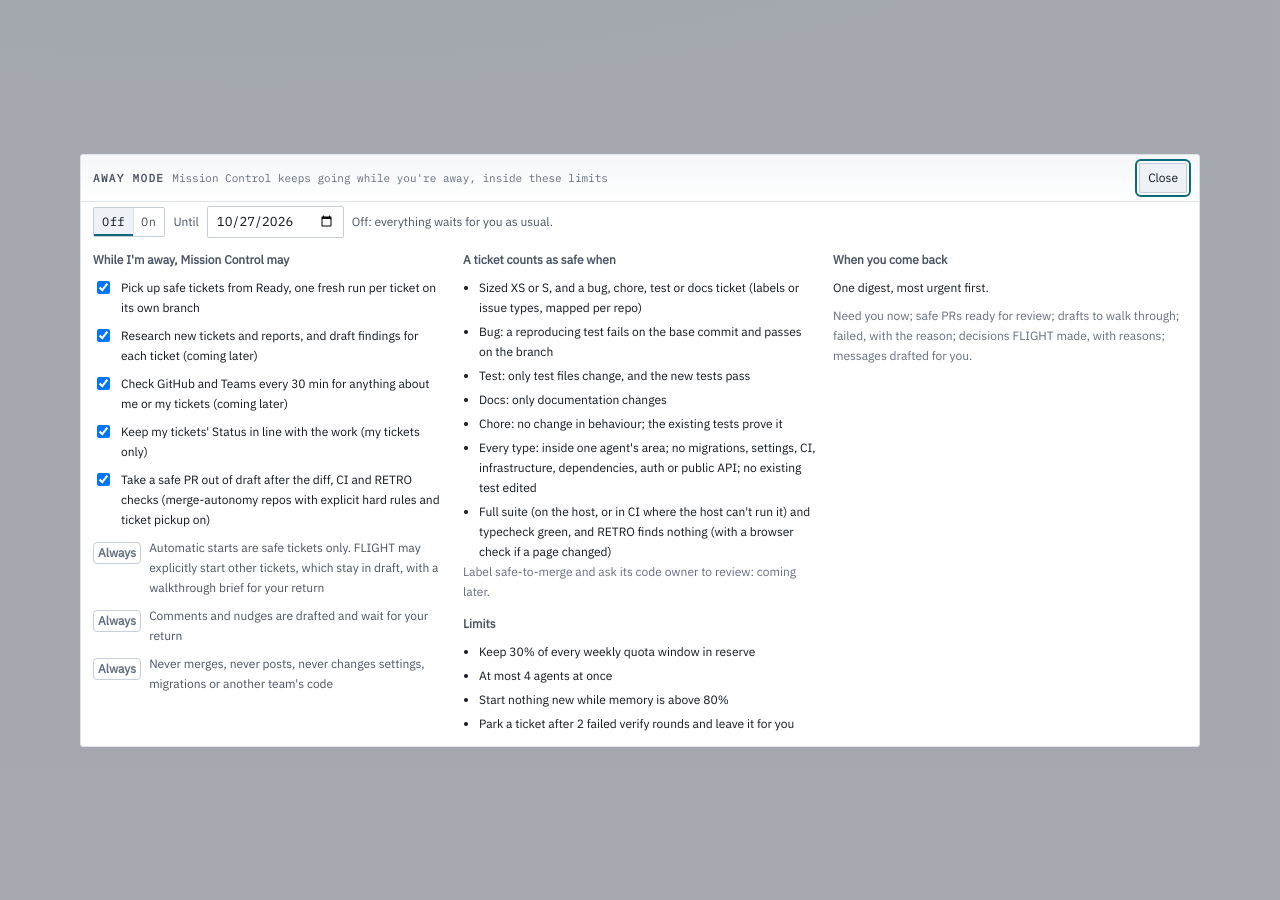
Test: AwayModal › a failed save toasts the error and goes back
The width and height of the screenshot is (1280, 900).
Click the button "On" at (149, 222), box [133,208,164,236]
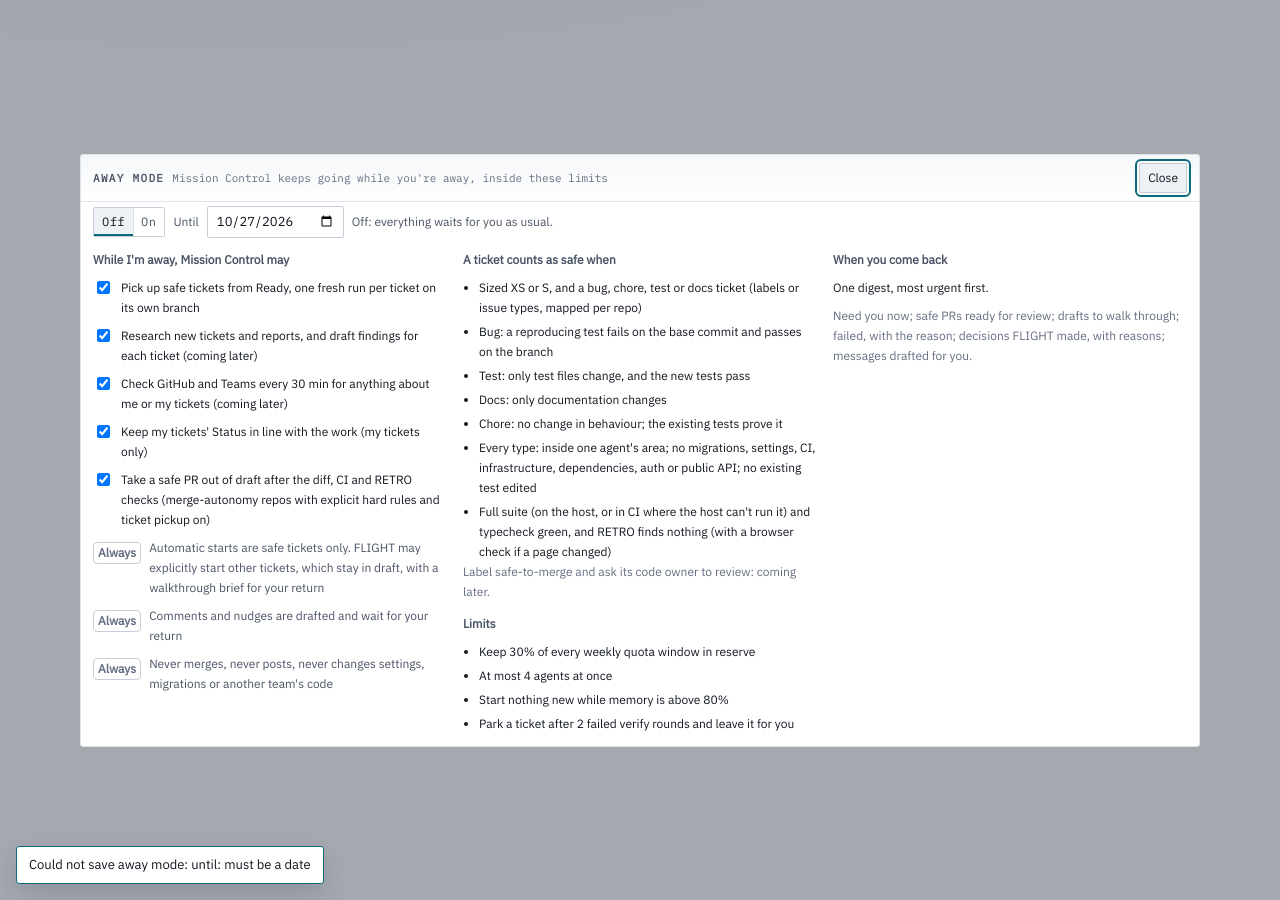
Expected: the text "Off: everything waits for you as usual." is shown, [352,212,553,232]
Expected: the message with id "toast" reads "Could not save away mode: until: must be a date", [29,856,311,873]
